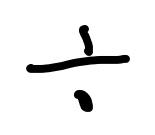div: (26, 25, 130, 112)
